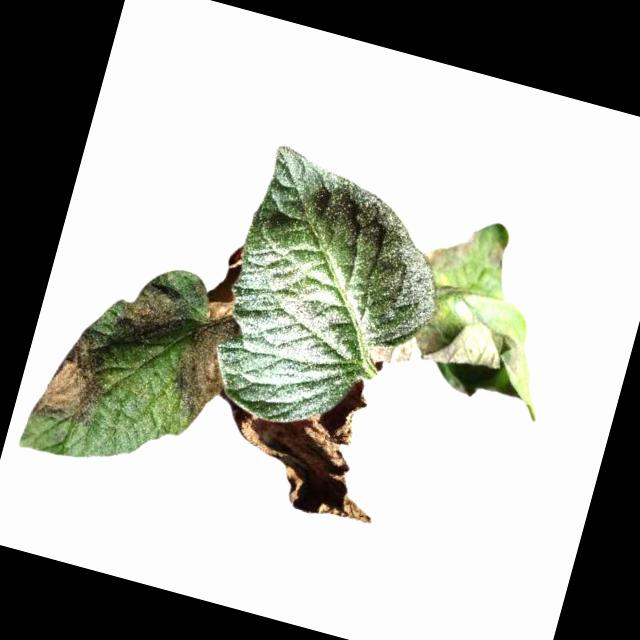Late_blight: (219, 350, 401, 530), (21, 321, 118, 433), (166, 308, 246, 423), (366, 309, 472, 385), (112, 272, 196, 351), (197, 240, 249, 324), (419, 218, 482, 281), (478, 328, 529, 378), (486, 241, 507, 270)
healthy: (203, 142, 465, 456)
